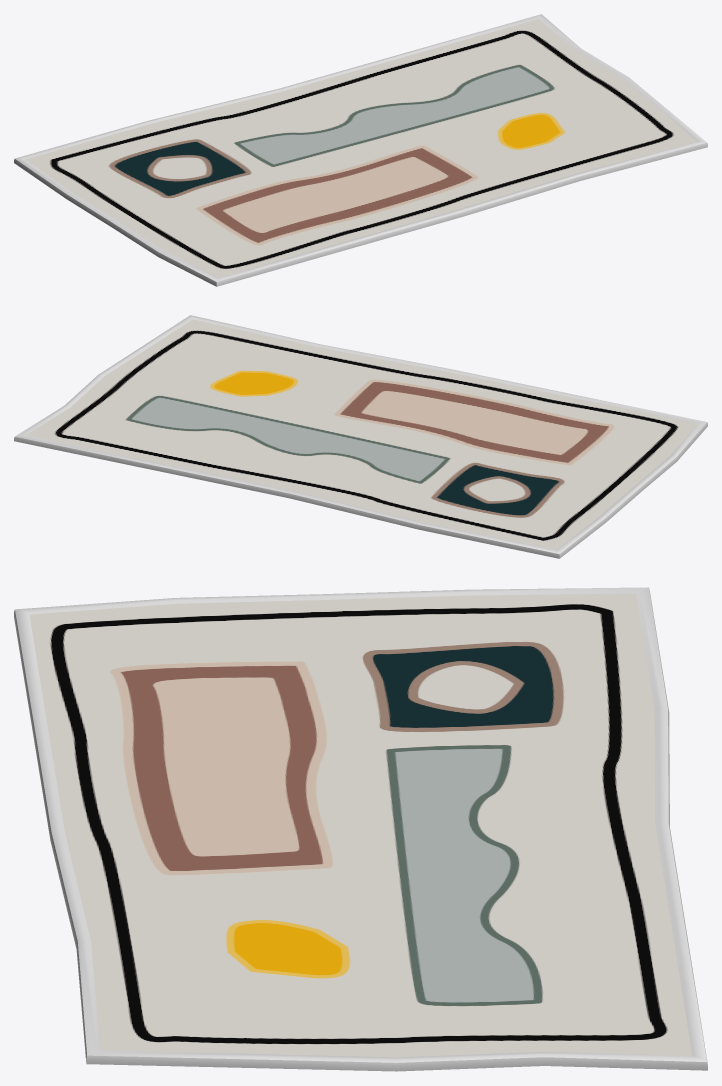
Rendered from _arpet.FBX.
3 renders of one model, top to bottom at view 1: azimuth 30°, elevation 25°; view 2: azimuth 150°, elevation 25°; view 3: azimuth 270°, elevation 25°, orthographic. The views are drawn at different scales.
Parts seen in each view (by area): view 1: Box001, Object; view 2: Box001, Object; view 3: Box001, Object.
Boxes of the visible parts, bbox=[...] form: Box001: bbox=[25, 19, 696, 277]; Object: bbox=[14, 14, 707, 286]; Box001: bbox=[26, 319, 697, 549]; Object: bbox=[14, 315, 707, 558]; Box001: bbox=[29, 593, 692, 1057]; Object: bbox=[14, 587, 707, 1071].
Bounding box in the file's own units: 2.4 × 0.022 × 1.48.
1 material, 1 textured.
